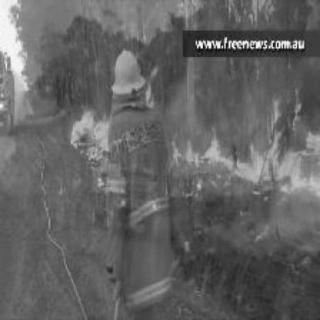Fire: (171, 111, 317, 198), (58, 96, 109, 162)
